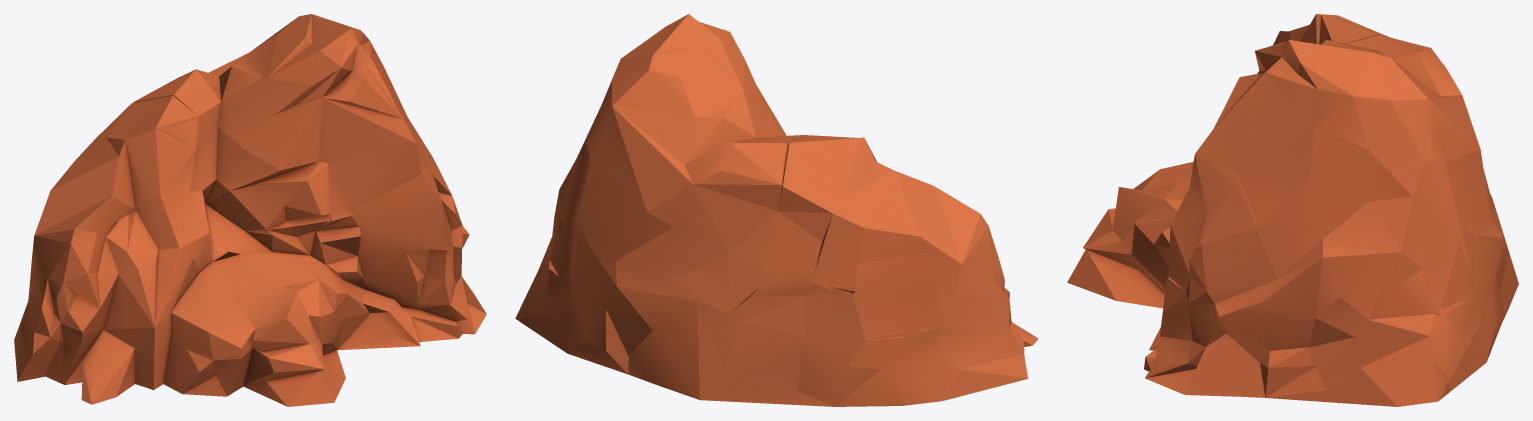
The model's file is rock.glb.
3 views of the same model, side by side, from view 1: azimuth 30°, elevation 25°; view 2: azimuth 150°, elevation 25°; view 3: azimuth 270°, elevation 25° (orthographic). The views are drawn at different scales.
Size of the model in its own units: 1.9 by 1.12 by 1.5.
Materials: 1 (1 with a texture image).
